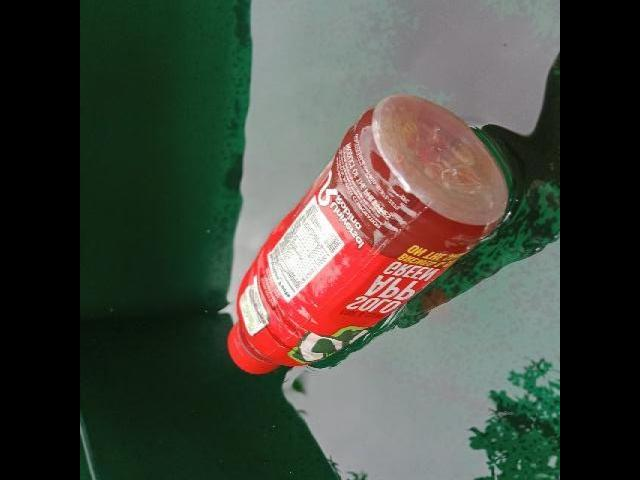Bottle: (202, 70, 528, 418)
